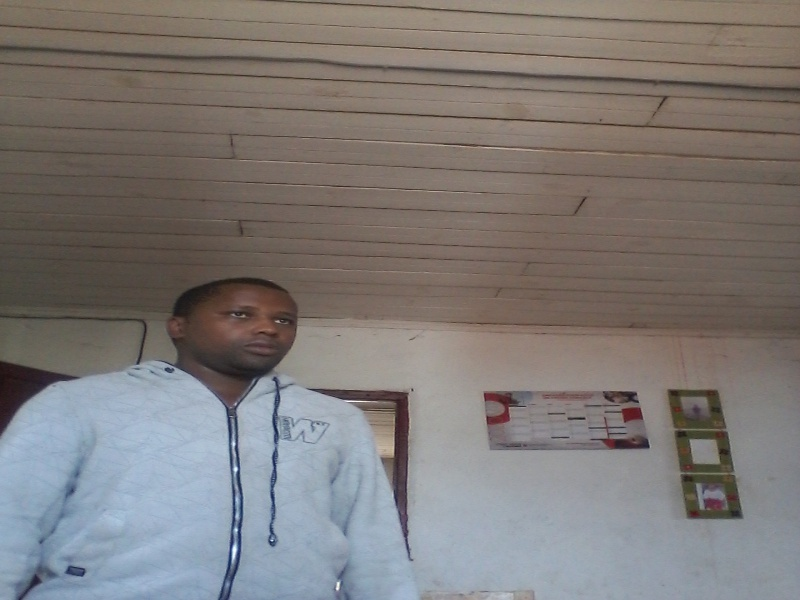TsisyArotava: (166, 272, 320, 389)
